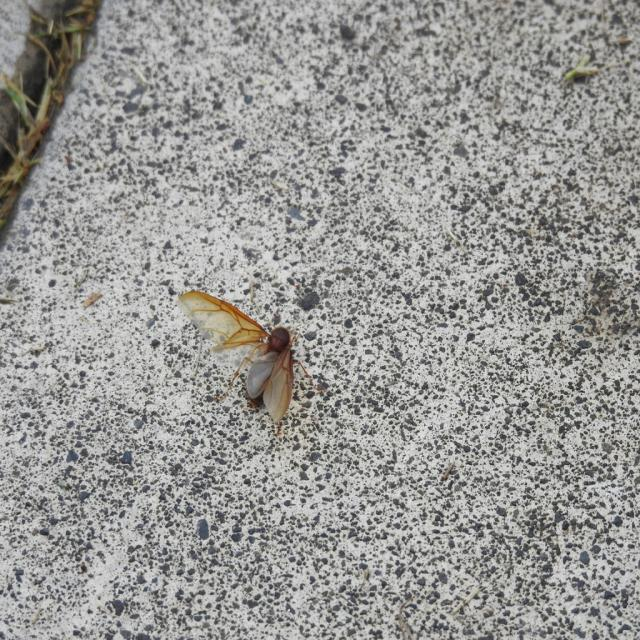Alive-Male-Alate: (177, 291, 326, 436)
